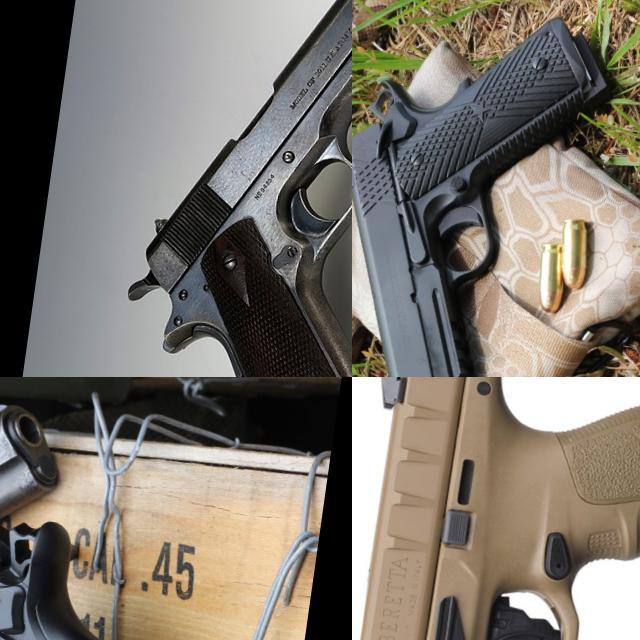handgun: (352, 0, 627, 377), (97, 0, 352, 377), (352, 377, 640, 640), (0, 495, 302, 640)
